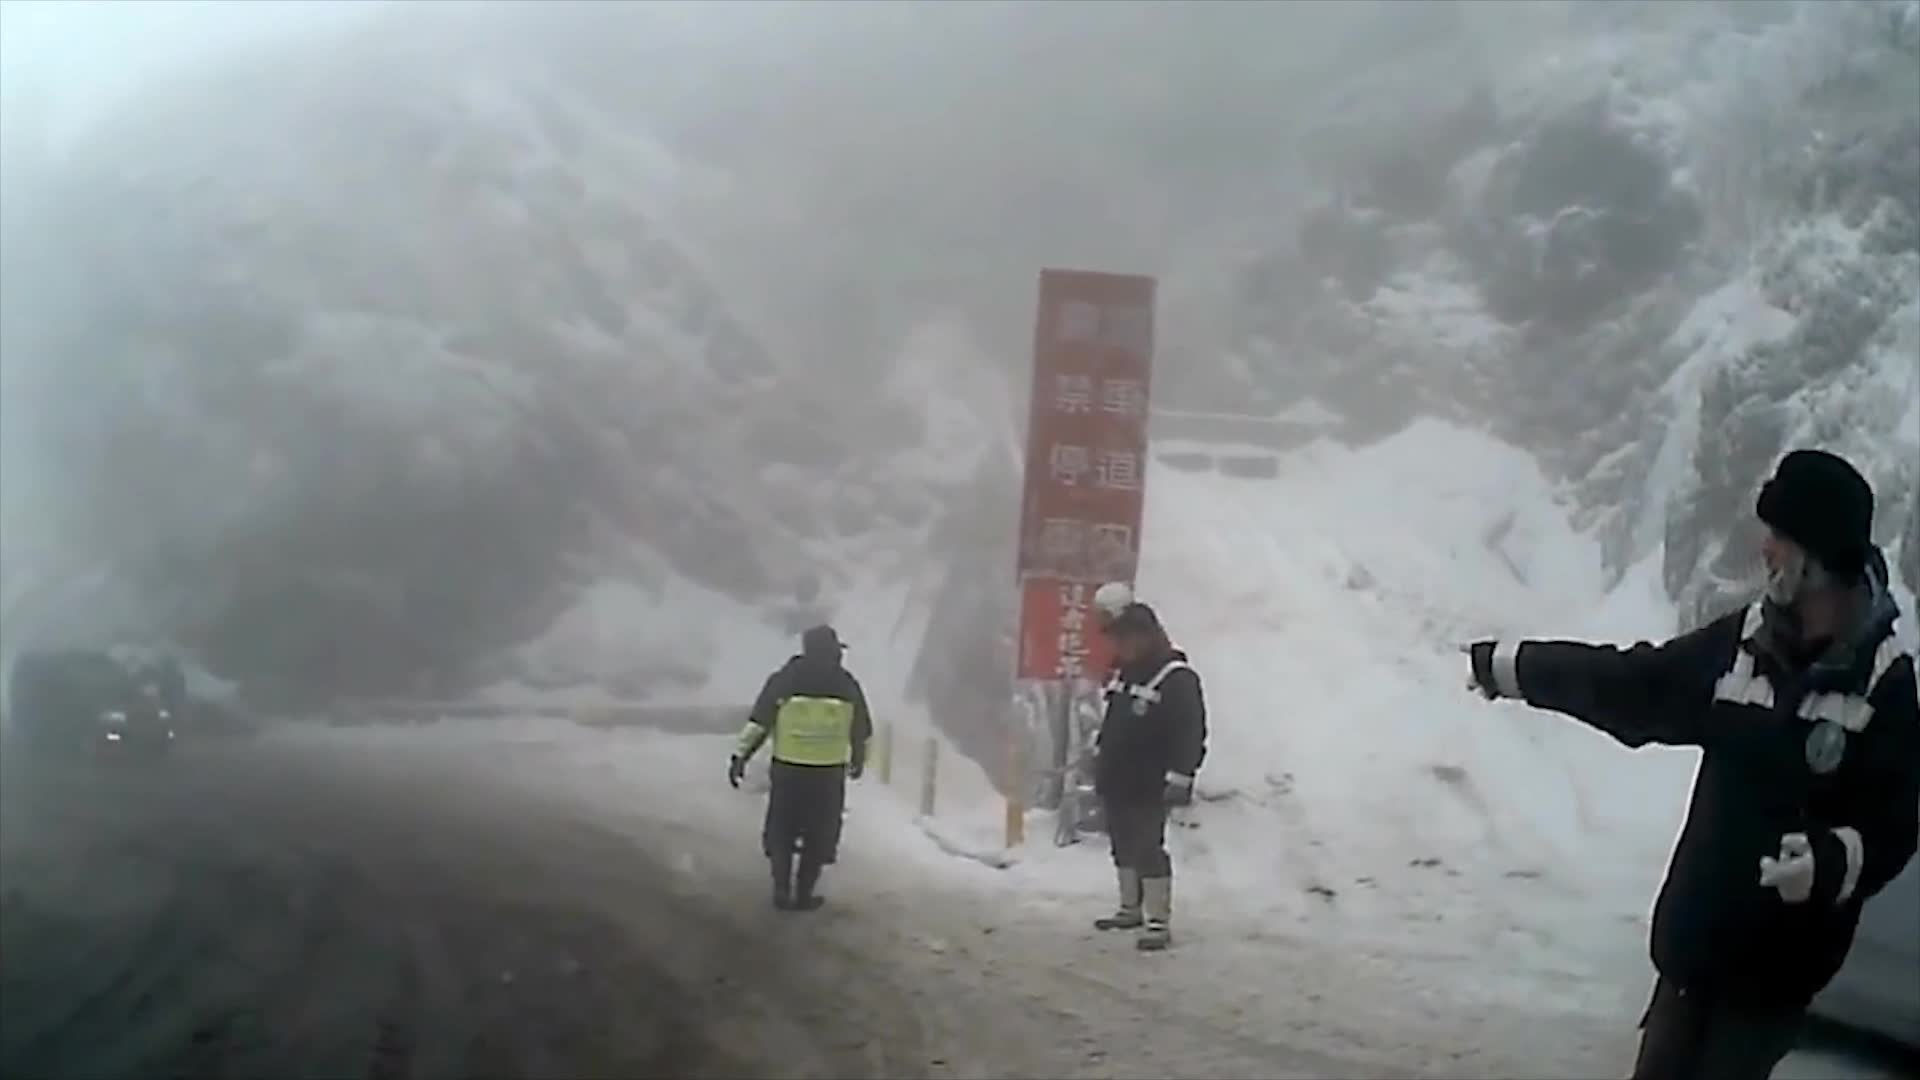pedestrian: (1447, 450, 1902, 1079), (1091, 608, 1212, 953), (729, 637, 874, 917)
vehicle: (10, 649, 178, 770)
